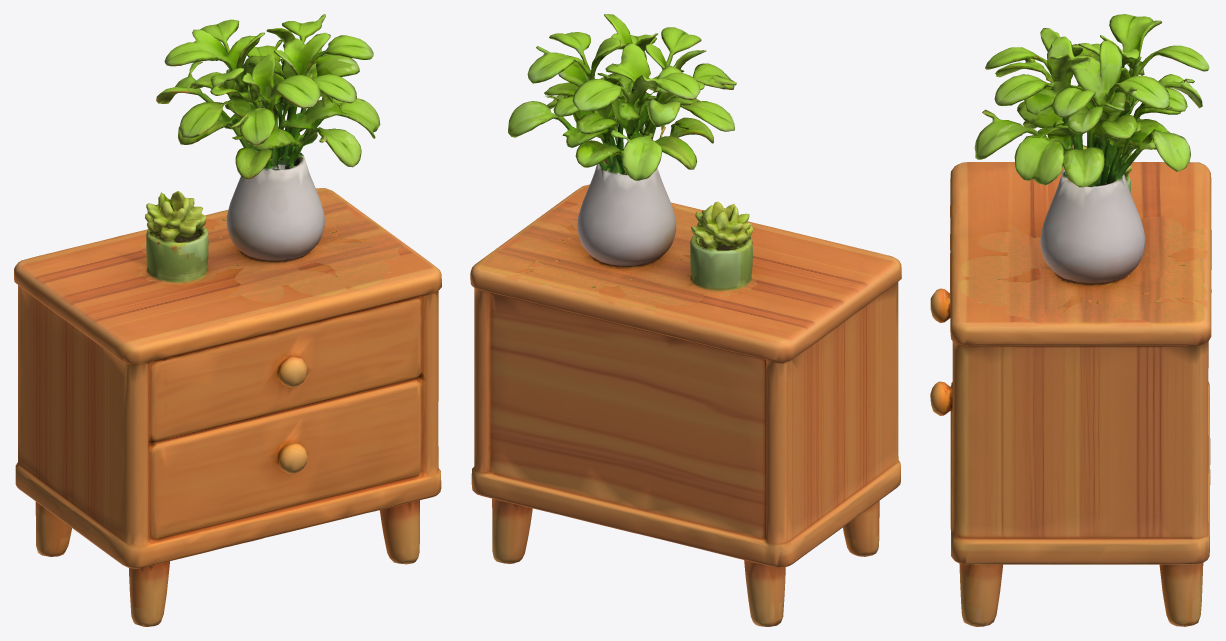
Rendered from komidin.fbx.
The picture shows the model from 3 angles, left to right: view 1: azimuth 30°, elevation 25°; view 2: azimuth 150°, elevation 25°; view 3: azimuth 270°, elevation 25°; orthographic projection. The views are drawn at different scales.
Visible parts, largest first — view 1: Mesh_0; view 2: Mesh_0; view 3: Mesh_0.
Boxes of the visible parts, left/top/right/bottom form: Mesh_0: left=14, top=14, right=441, bottom=626; Mesh_0: left=470, top=14, right=901, bottom=626; Mesh_0: left=930, top=14, right=1211, bottom=626.
Bounding box in the file's own units: 127 × 192 × 90.
Materials: 1 (1 with a texture image).
